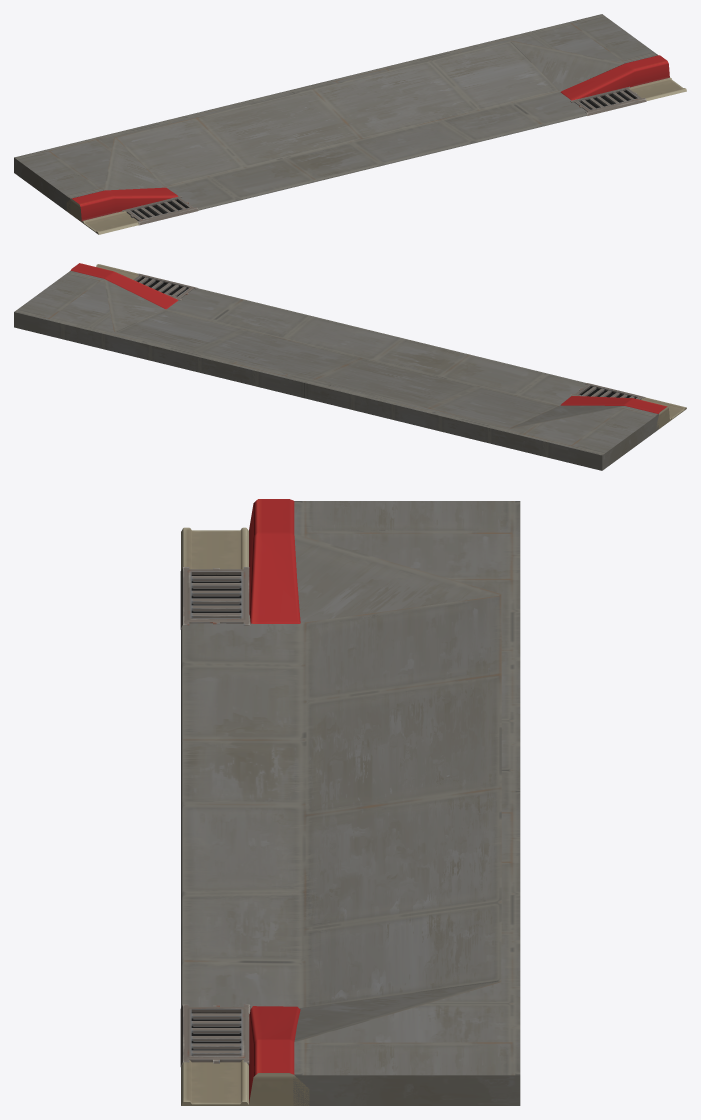
File: Sidewalk_Edge_Ramp.gltf
3 views of the same model, one above another, from view 1: azimuth 30°, elevation 25°; view 2: azimuth 150°, elevation 25°; view 3: azimuth 270°, elevation 25° (orthographic). The views are drawn at different scales.
Visible parts, largest first — view 1: SM_Sidewalk_Edge_Ramp; view 2: SM_Sidewalk_Edge_Ramp; view 3: SM_Sidewalk_Edge_Ramp.
Boxes of the visible parts, x1,y1,x2,y2 form: SM_Sidewalk_Edge_Ramp: (14,14,686,234); SM_Sidewalk_Edge_Ramp: (14,263,686,470); SM_Sidewalk_Edge_Ramp: (180,499,520,1105).
Size of the model in its own units: 6 by 0.1627 by 1.5.
